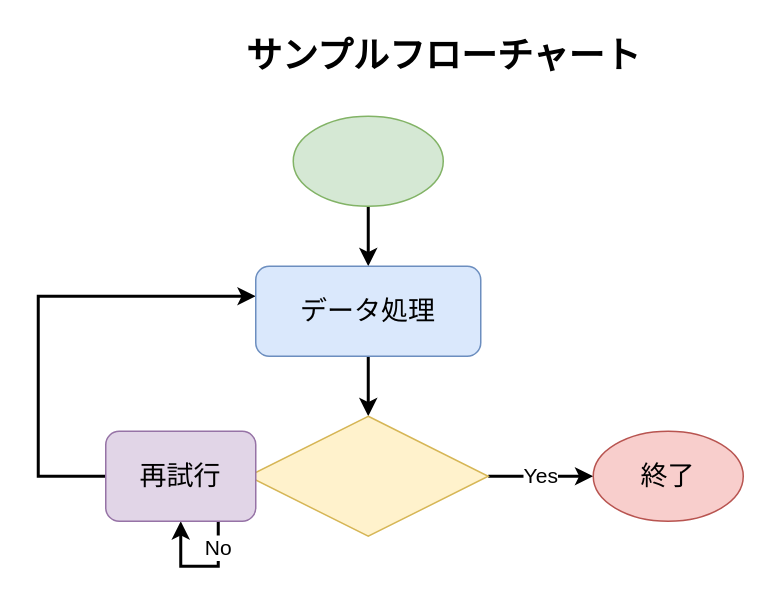
This 770x605 diagram has some shape labels left out. The shapes that lost their labels are listed below. From the top down, each one's centre as x and y in pixels, then its label:
At pixel 367 160: "開始".
At pixel 367 475: "条件を 満たすか？".
